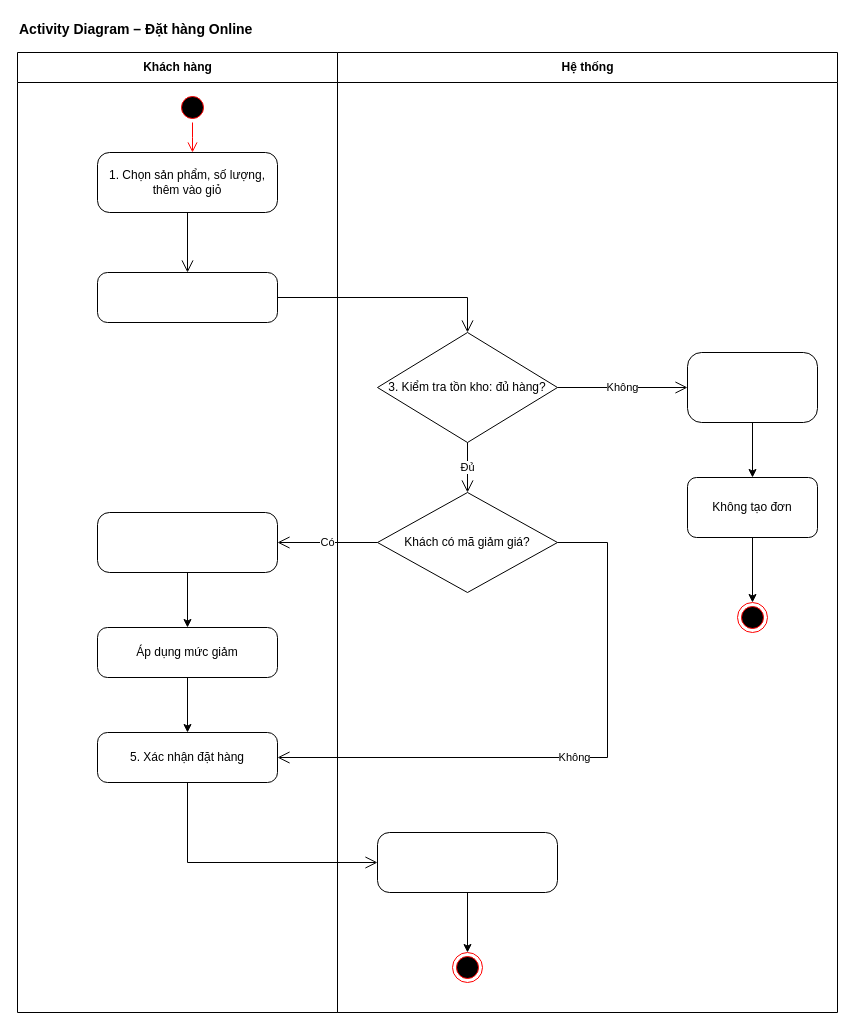
This 855x1030 diagram has some shape labels left out. The shapes that lost their labels are listed below. From the top down, each one's box as (x1, y1, x2, y2) in pixels, then its label:
(96, 272, 278, 322): 2. Bấm Đặt hàng
(686, 352, 818, 422): Báo không đủ hàng
(96, 512, 278, 572): 4. Nhập mã giảm giá
(376, 832, 558, 892): 6. Tạo đơn hàng, thông báo thành công
